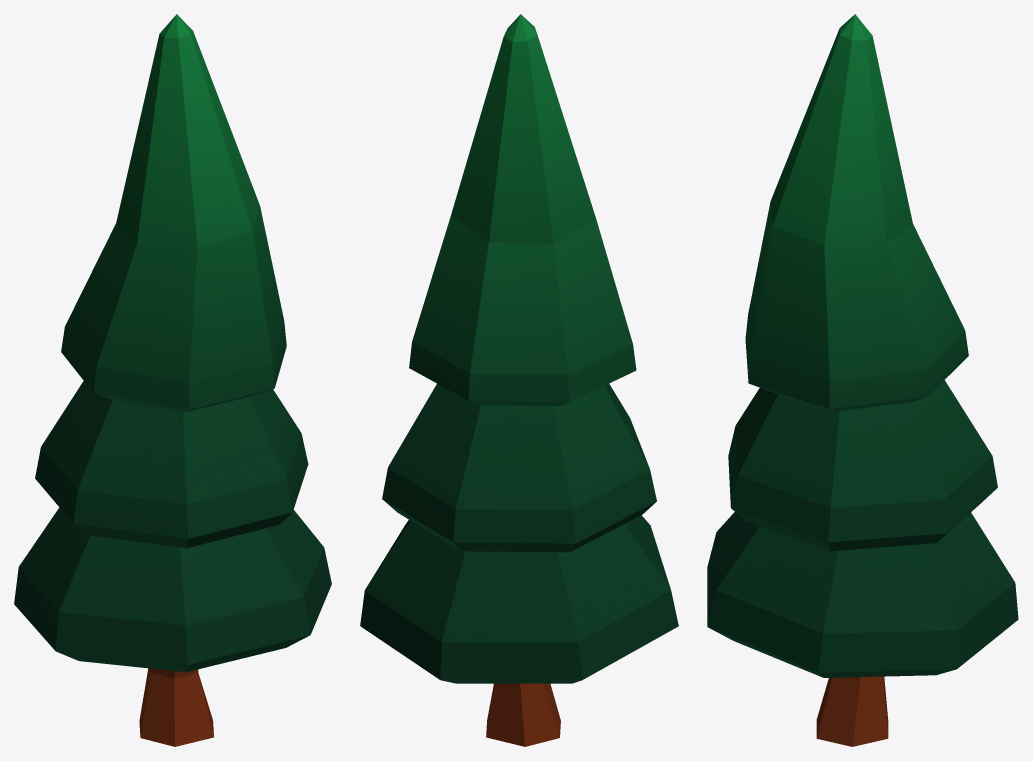
File: Tree7.fbx
The picture shows the model from 3 angles, left to right: view 1: azimuth 30°, elevation 25°; view 2: azimuth 150°, elevation 25°; view 3: azimuth 270°, elevation 25°; orthographic projection.
Parts seen in each view (by area): view 1: tree_D4; view 2: tree_D4; view 3: tree_D4.
Boxes of the visible parts, x1,y1,x2,y2 form: tree_D4: [14, 14, 331, 746]; tree_D4: [360, 14, 678, 746]; tree_D4: [707, 14, 1018, 746].
Bounding box in the file's own units: 142 × 349 × 138.
